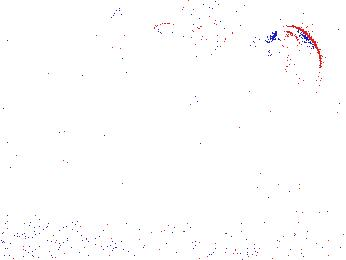moon jellyfish: (232, 42, 323, 121), (110, 10, 164, 96), (271, 24, 322, 102), (178, 2, 235, 57), (142, 22, 198, 74)
